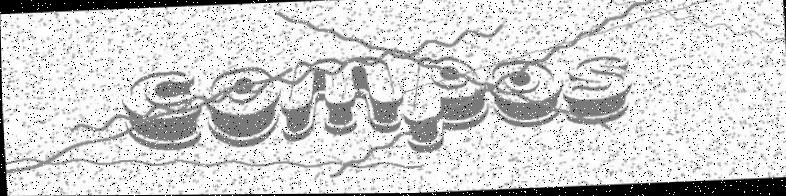c: (119, 68, 204, 153)
m: (276, 54, 405, 143)
o: (202, 65, 284, 150), (489, 58, 563, 130)
p: (400, 53, 492, 155)
s: (560, 55, 634, 127)
